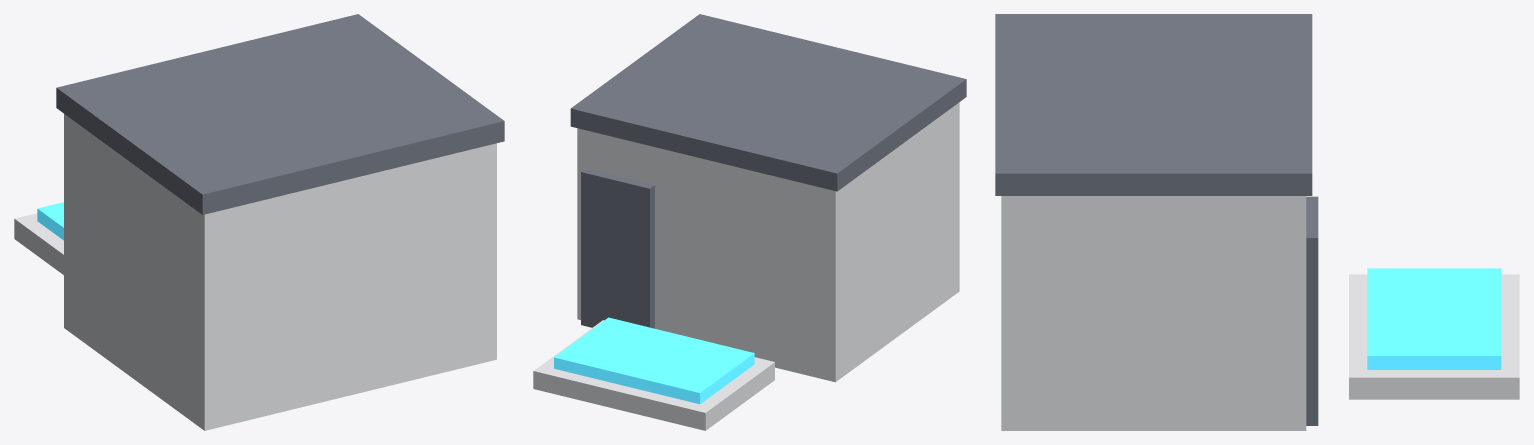
Rendered from res_luxury_1.glb.
3 views of the same model, side by side, from view 1: azimuth 30°, elevation 25°; view 2: azimuth 150°, elevation 25°; view 3: azimuth 270°, elevation 25° (orthographic). The views are drawn at different scales.
Visible parts, largest first — view 1: res_luxury_1; view 2: res_luxury_1; view 3: res_luxury_1.
Part boxes in pixels (box(x1,y1,x2,y2)): res_luxury_1: box(14, 14, 504, 430); res_luxury_1: box(533, 14, 966, 430); res_luxury_1: box(995, 14, 1519, 430).
Size of the model in its own units: 0.62 by 0.47 by 0.86.
